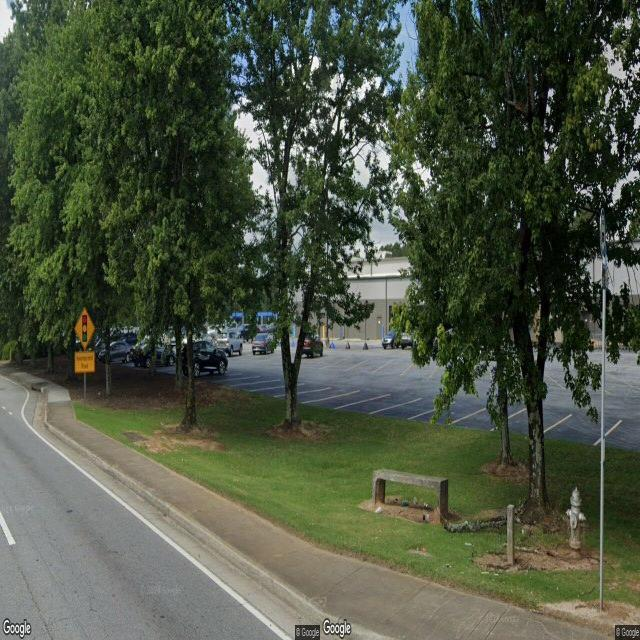seating: (371, 468, 449, 520)
